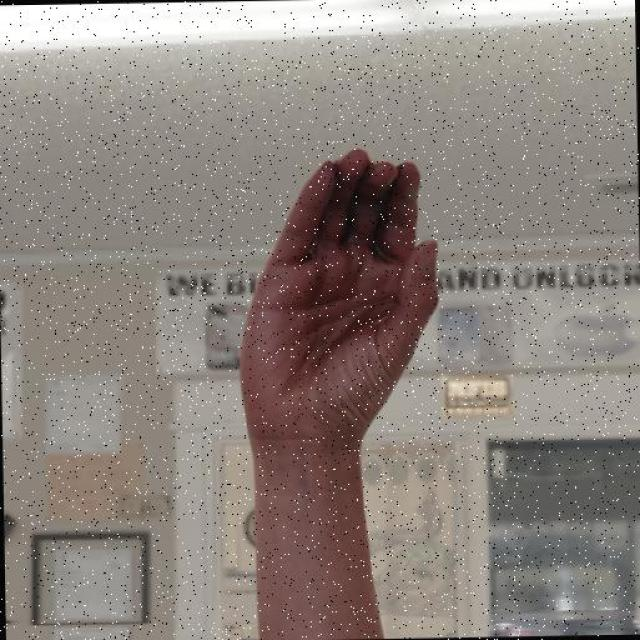C: (231, 145, 445, 450)
